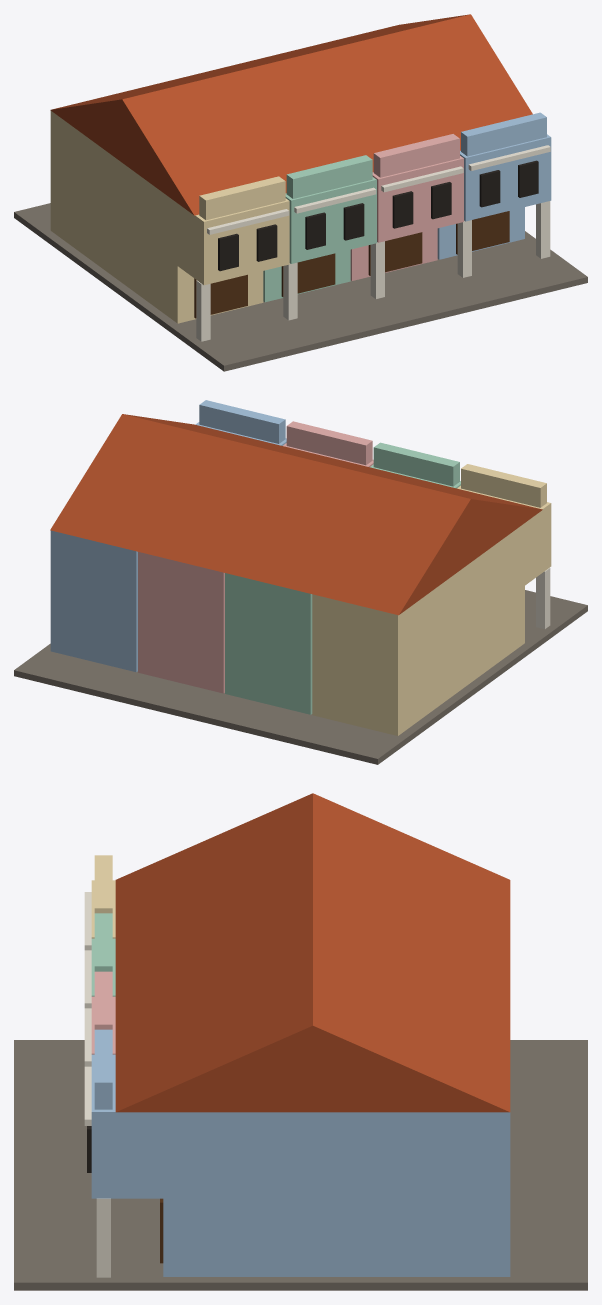
The model's file is zone_R_d2_e2.glb.
The picture shows the model from 3 angles, top to bottom: view 1: azimuth 30°, elevation 25°; view 2: azimuth 150°, elevation 25°; view 3: azimuth 270°, elevation 25°; orthographic projection. The views are drawn at different scales.
Visible parts, largest first — view 1: zone_R_d2_e2; view 2: zone_R_d2_e2; view 3: zone_R_d2_e2.
Part boxes in pixels (left/top/right/bottom): zone_R_d2_e2: left=14, top=14, right=587, bottom=371; zone_R_d2_e2: left=14, top=400, right=587, bottom=764; zone_R_d2_e2: left=14, top=793, right=587, bottom=1290.
Size of the model in its own units: 0.96 by 0.48 by 0.96.
